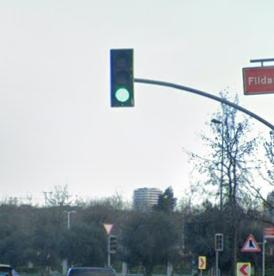greenlight: (110, 49, 134, 108)
